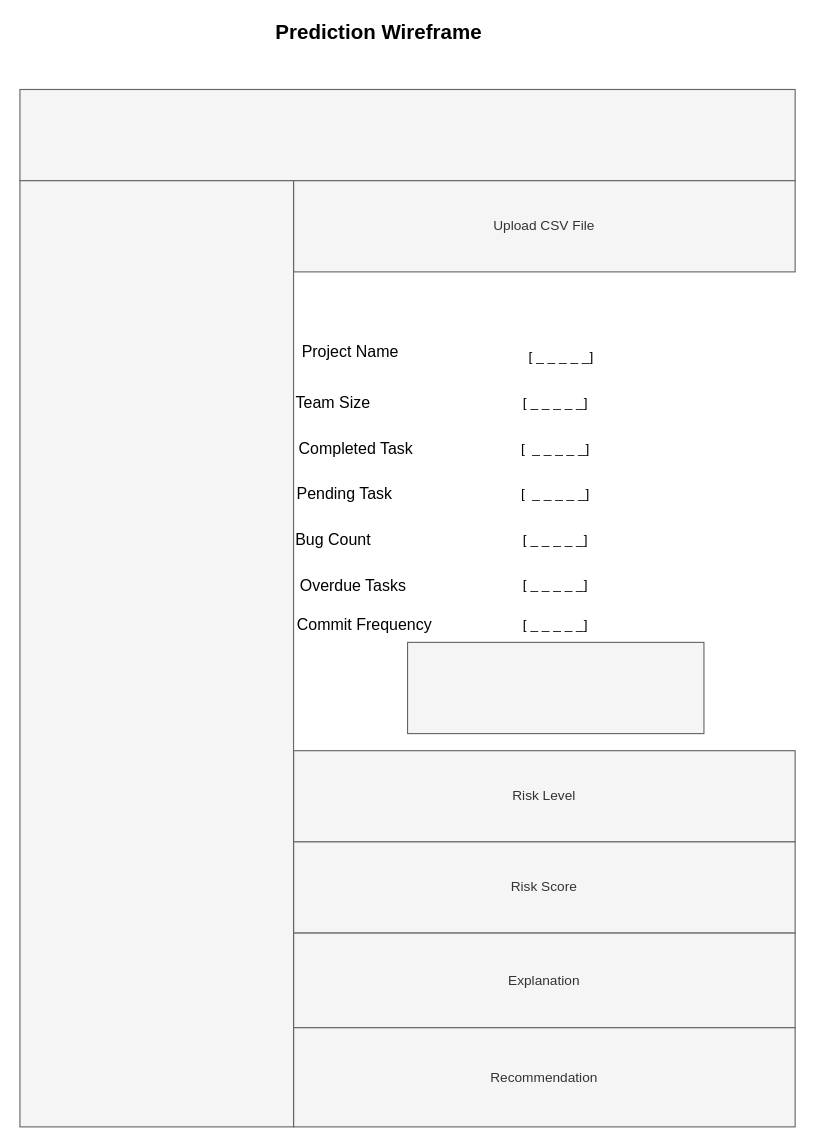
Image size: 815x1147. Some labels were removed from this diagram. Here are the shapes that lost their labels. From the top down, the centre of each, then its label:
At point (407, 134): "Top Navigation".
At point (156, 653): "Sidebar".
At point (555, 687): "Predict Risk Button".
